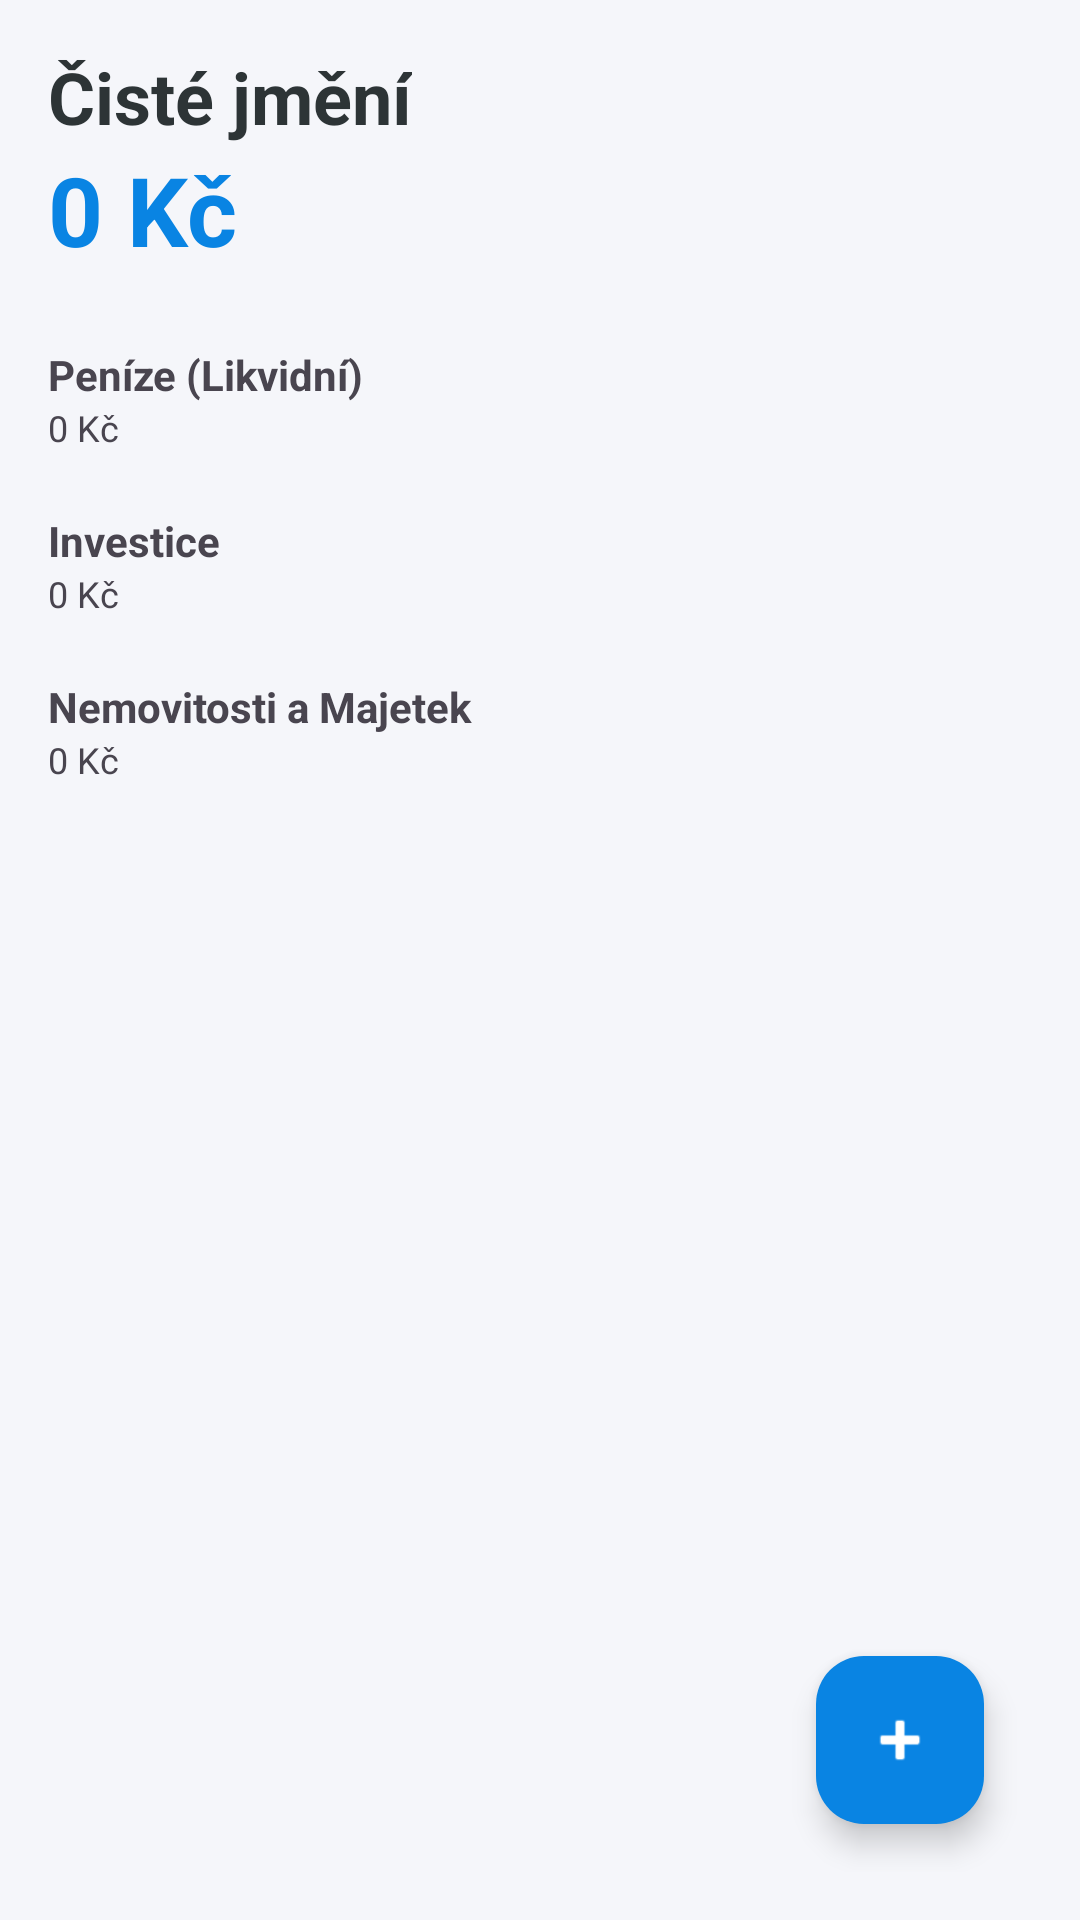

Where icons sit on this 1080px×1920px app screen, as (x1, y1, x2, y2):
Přidat majetek: (816, 1656, 984, 1824)
